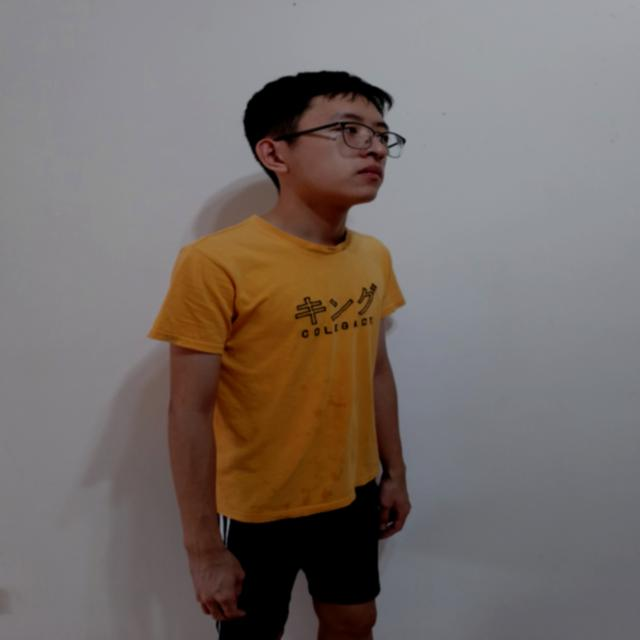person_without_labcoat: (149, 71, 410, 640)
